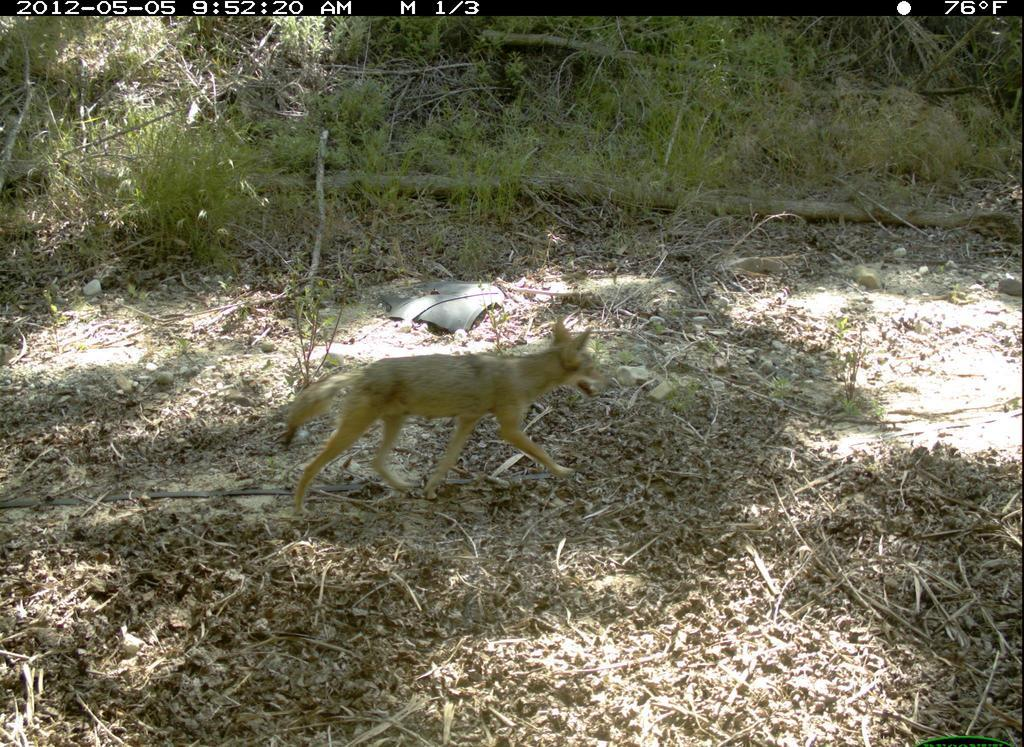coyote: (254, 299, 610, 520)
